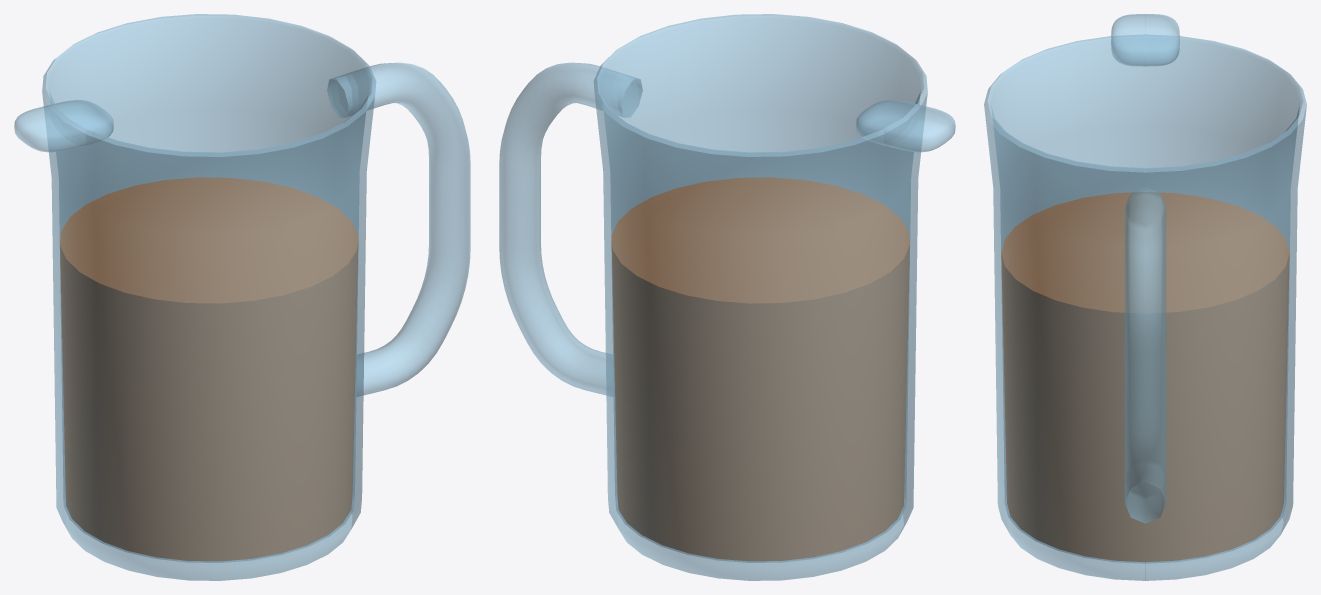
Rendered from jarra_vidro.glb.
3 renders of one model, left to right at view 1: azimuth 30°, elevation 25°; view 2: azimuth 150°, elevation 25°; view 3: azimuth 270°, elevation 25°, orthographic. The views are drawn at different scales.
Parts seen in each view (by area): view 1: jarra_vidro; view 2: jarra_vidro; view 3: jarra_vidro.
Boxes of the visible parts, x1=… form: jarra_vidro: x1=14, y1=14, x2=470, y2=580; jarra_vidro: x1=499, y1=14, x2=955, y2=580; jarra_vidro: x1=984, y1=14, x2=1306, y2=580.
Bounding box in the file's own units: 0.215 × 0.204 × 0.14.
